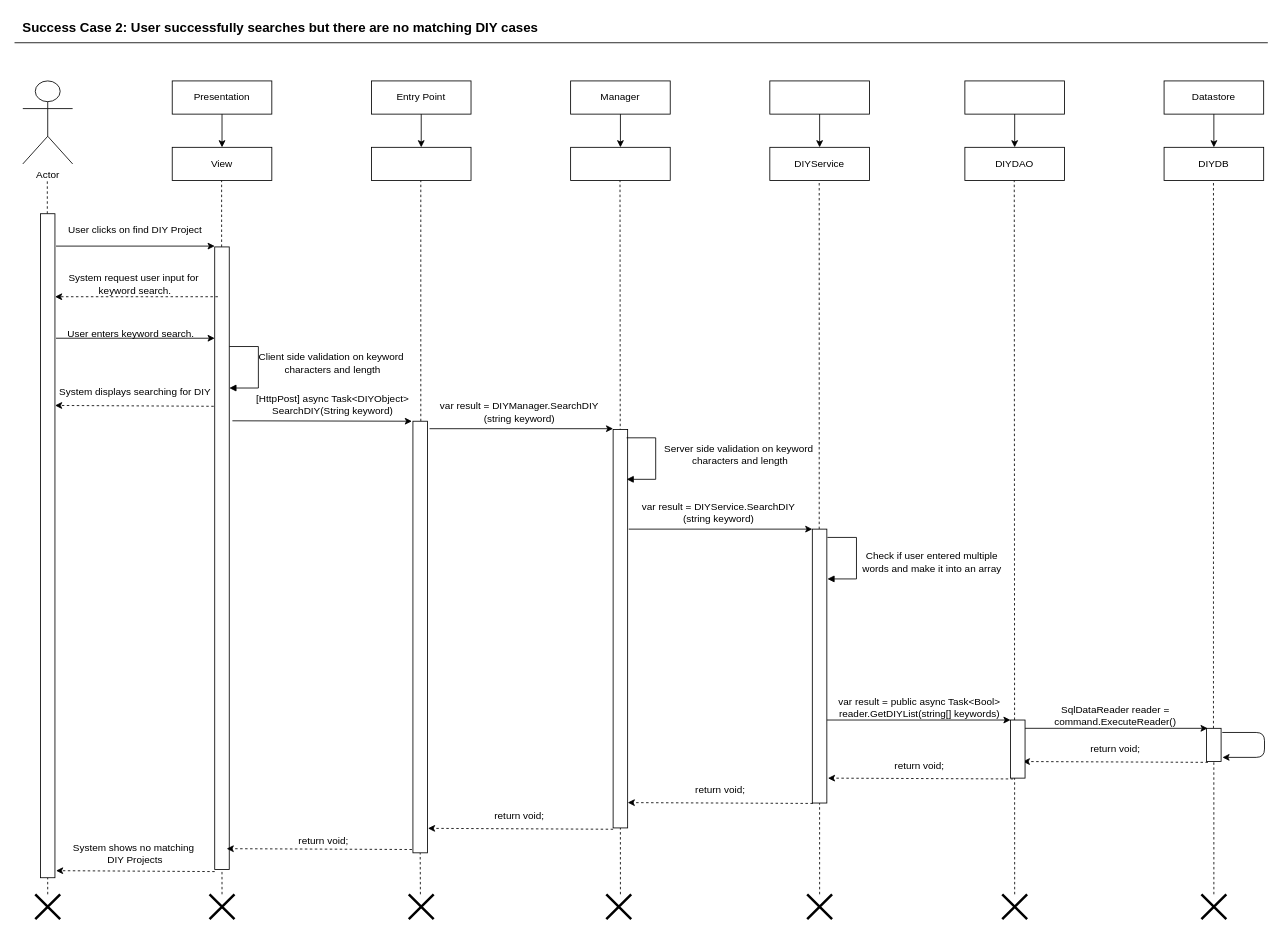
Some shapes in this 1286 by 935 pixel diagram are drawn without their labels. Here are the shapes that lost their labels. From the top down, the box of each, then its label:
(769, 80, 869, 114): Service
(964, 80, 1064, 114): DAL
(371, 146, 471, 181): Entry
(570, 146, 670, 181): DIYManager
